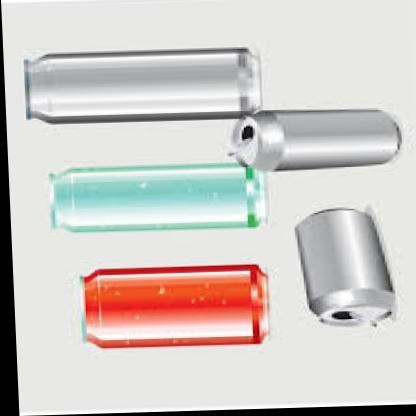trash: (25, 48, 260, 122), (83, 264, 267, 347), (50, 163, 264, 231), (295, 209, 393, 324)
